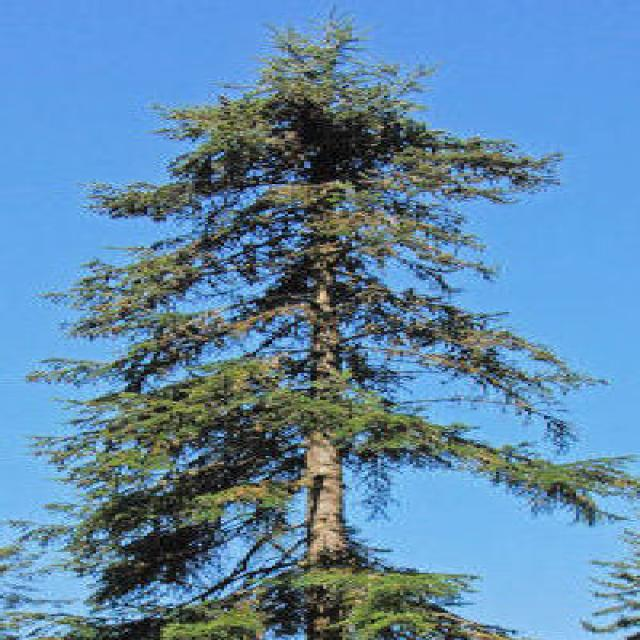Abies: (28, 8, 626, 640)
